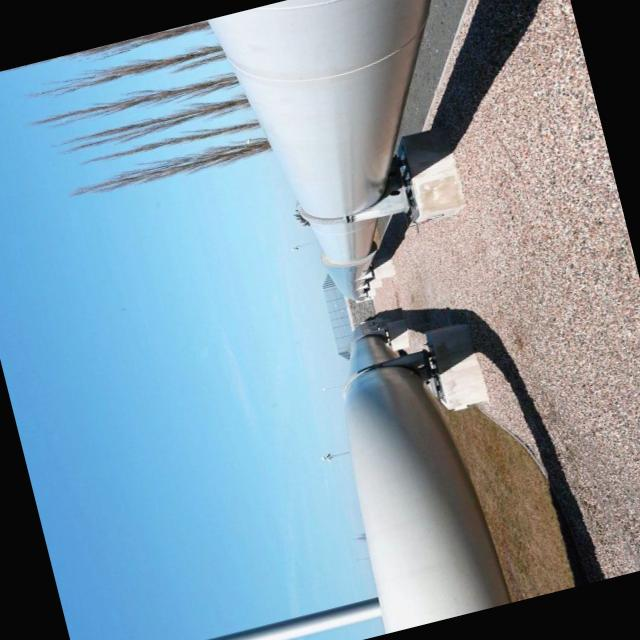gas: (207, 0, 423, 296), (341, 323, 499, 633)
